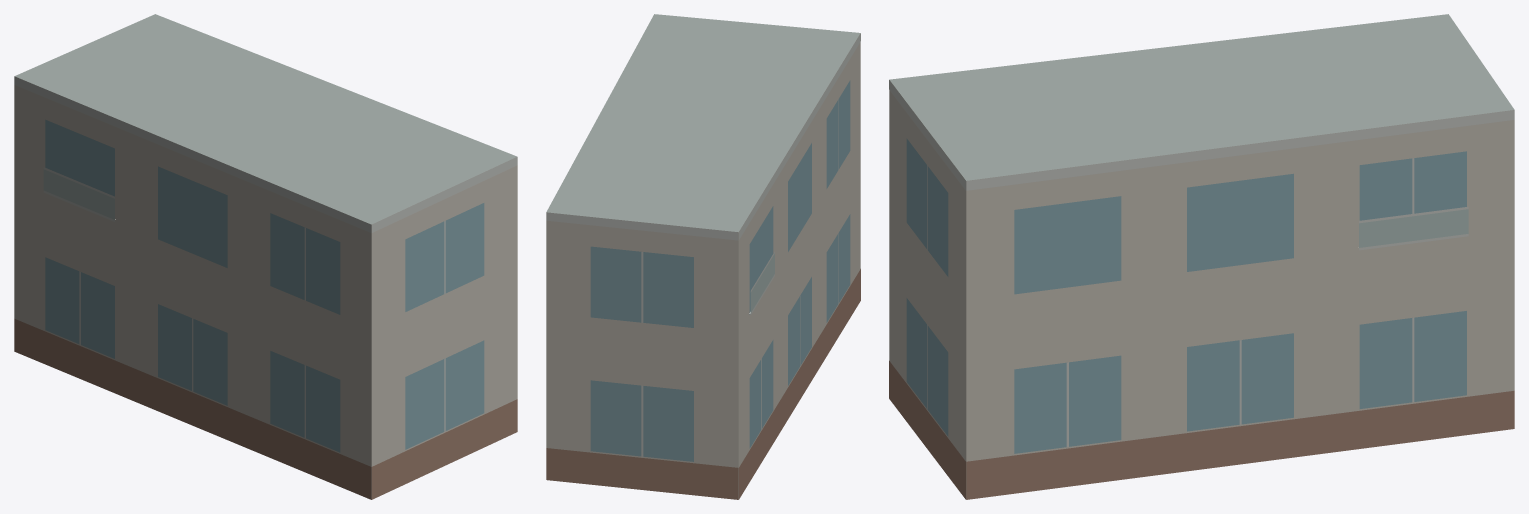
The model's file is survey-upis-32493716.glb.
The picture shows the model from 3 angles, left to right: view 1: azimuth 30°, elevation 25°; view 2: azimuth 150°, elevation 25°; view 3: azimuth 270°, elevation 25°; orthographic projection. The views are drawn at different scales.
Parts seen in each view (by area): view 1: survey-upis-32493716.tmp; view 2: survey-upis-32493716.tmp; view 3: survey-upis-32493716.tmp.
Part boxes in pixels (<box>): survey-upis-32493716.tmp: <box>14,14,517,499</box>; survey-upis-32493716.tmp: <box>546,14,860,499</box>; survey-upis-32493716.tmp: <box>889,14,1514,499</box>.
Bounding box in the file's own units: 8.76 × 7.8 × 13.87.
